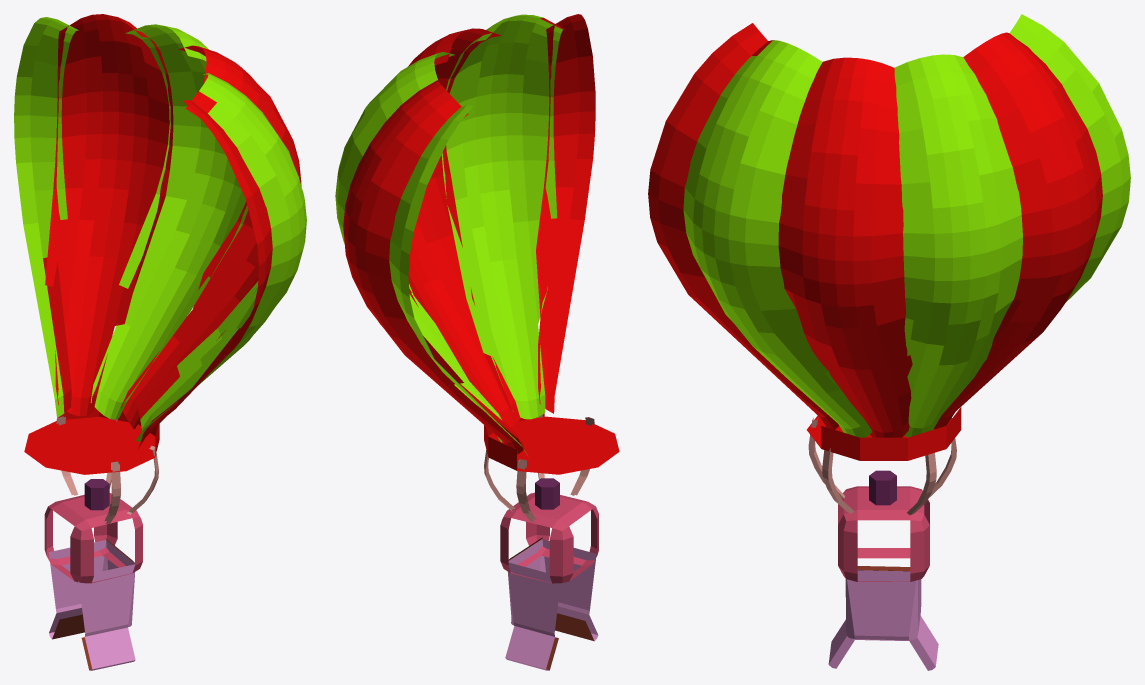
The model's file is ballondecimatedv3.fbx.
3 renders of one model, left to right at view 1: azimuth 30°, elevation 25°; view 2: azimuth 150°, elevation 25°; view 3: azimuth 270°, elevation 25°, orthographic. The views are drawn at different scales.
Visible parts, largest first — view 1: Sphere, Cube, Cylinder, Cube.002, Cylinder.002, Cylinder.001; view 2: Sphere, Cube, Cylinder, Cube.002, Cylinder.002, Cylinder.001; view 3: Sphere, Cube, Cube.002, Cylinder, Cylinder.002, Cylinder.001.
Boxes of the visible parts, <box> form: Sphere: <box>14,14,306,448</box>; Cube: <box>48,538,135,670</box>; Cylinder: <box>24,407,159,474</box>; Cube.002: <box>44,493,142,583</box>; Cylinder.002: <box>56,416,158,523</box>; Cylinder.001: <box>84,479,109,510</box>; Sphere: <box>335,14,595,455</box>; Cube: <box>505,537,598,670</box>; Cylinder: <box>484,413,619,474</box>; Cube.002: <box>500,492,598,583</box>; Cylinder.002: <box>484,414,594,522</box>; Cylinder.001: <box>535,478,559,509</box>; Sphere: <box>648,14,1130,437</box>; Cube: <box>828,566,938,670</box>; Cube.002: <box>838,486,929,581</box>; Cylinder: <box>807,407,961,460</box>; Cylinder.002: <box>808,417,956,515</box>; Cylinder.001: <box>869,470,896,505</box>.
Size of the model in its own units: 146 by 337 by 225.
